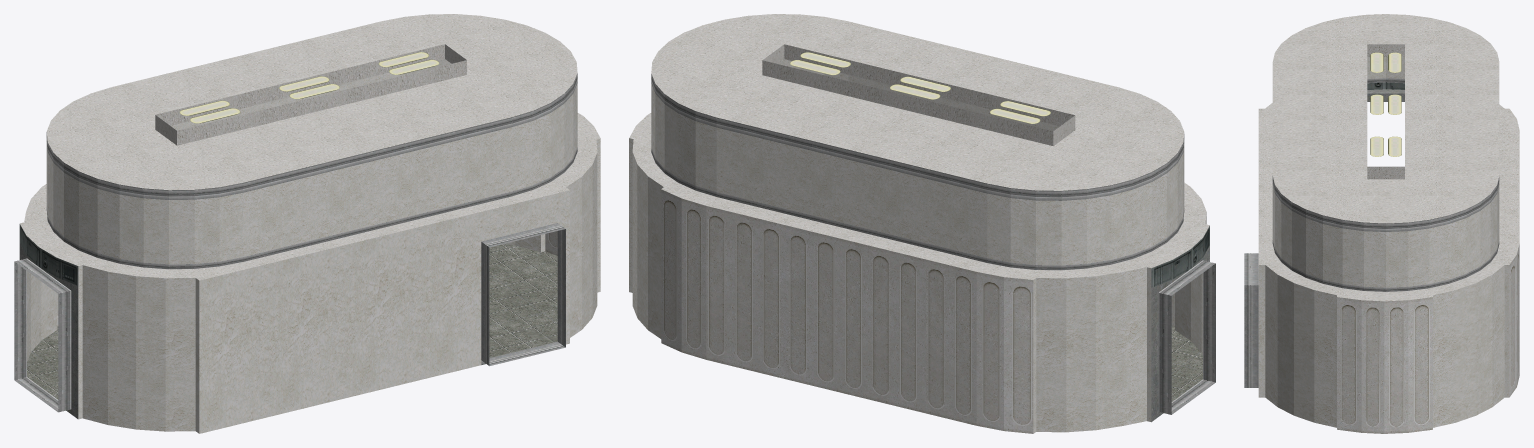
Rendered from ply_corl_house_lg_s01_fp1_r4_room4_mesh_r4.fbx.
3 views of the same model, side by side, from view 1: azimuth 30°, elevation 25°; view 2: azimuth 150°, elevation 25°; view 3: azimuth 270°, elevation 25° (orthographic). The views are drawn at different scales.
Visible parts, largest first — view 1: mesh_node; view 2: mesh_node; view 3: mesh_node.
Part boxes in pixels (bbox=[...]): mesh_node: bbox=[14, 14, 600, 433]; mesh_node: bbox=[629, 14, 1215, 433]; mesh_node: bbox=[1244, 14, 1519, 433].
Size of the model in its own units: 14.43 by 6.25 by 7.28.
